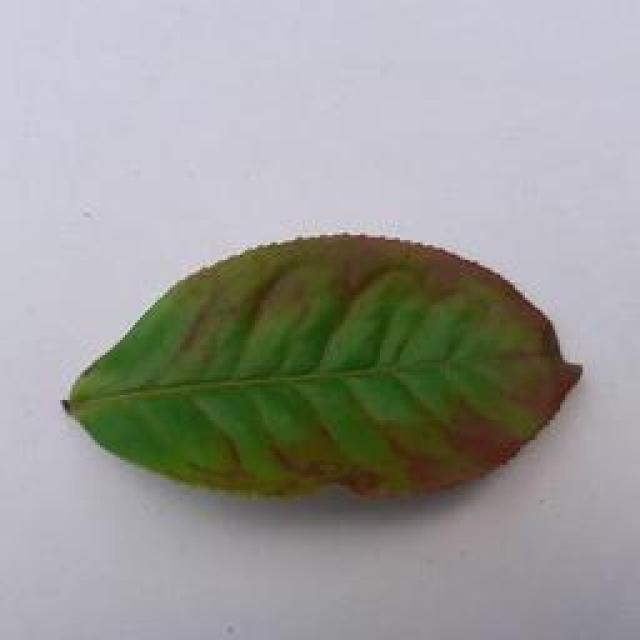Red Leaf Spot: (52, 224, 582, 504)
